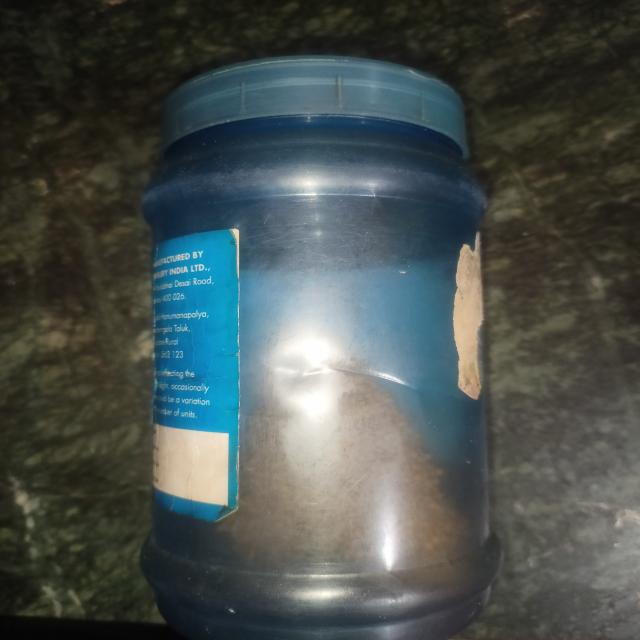plastic_bottle: (115, 36, 521, 633)
